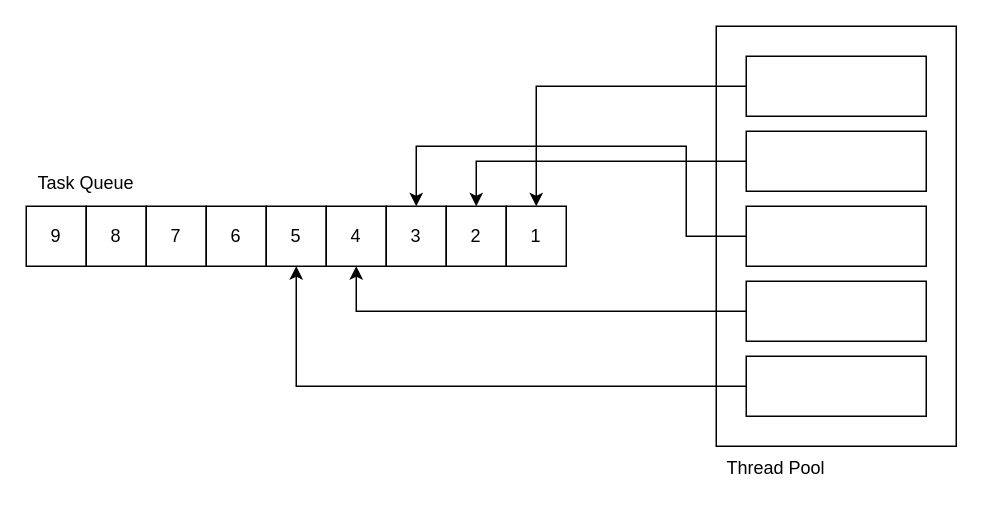
The diagram is 983 pixels wide and 518 high, and some of its shapes have lost their labels. The shapes that lost their labels are listed below. From the top down, each one's centre as x and y in pixels, then its label:
At point (835, 85): "Thread 1".
At point (835, 160): "Thread 2".
At point (835, 235): "Thread 3".
At point (835, 310): "Thread 4".
At point (835, 385): "Thread 5".
